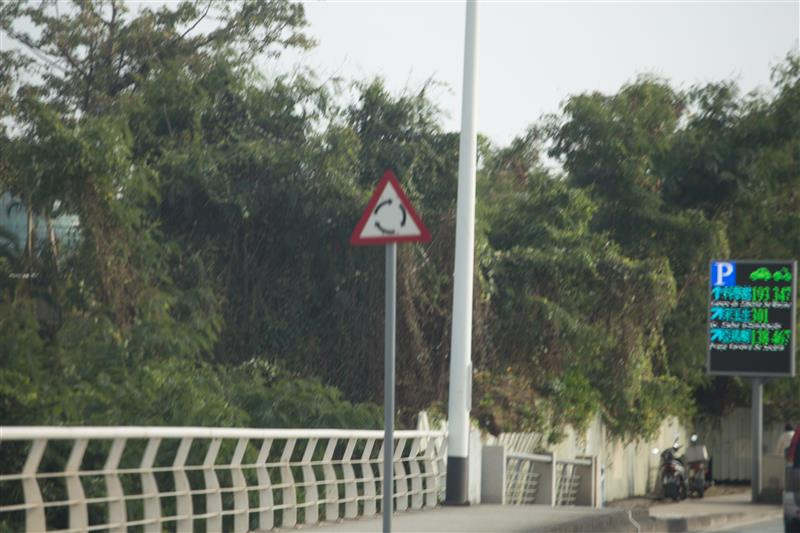roundaboutR: (348, 169, 430, 251)
